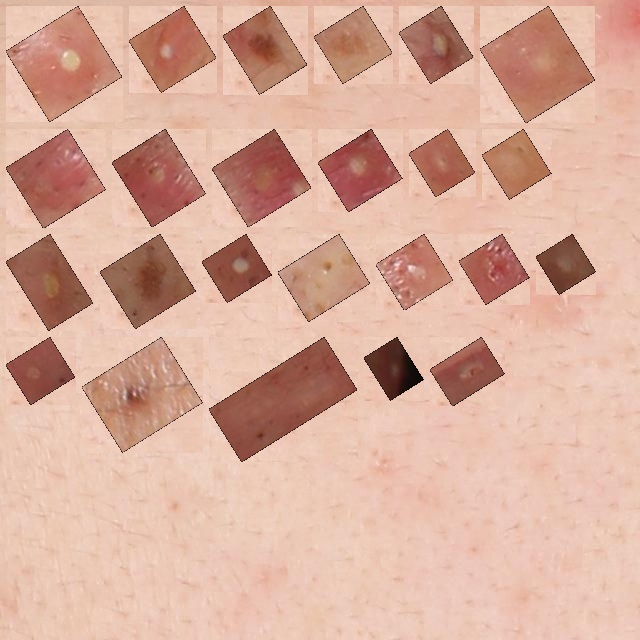hypertrophic_scar: (220, 348, 346, 451), (289, 245, 359, 310), (493, 140, 540, 188)
melasma: (325, 17, 381, 72)
nevus: (93, 348, 191, 441), (111, 245, 185, 317), (234, 17, 296, 83)
pustule: (491, 17, 584, 112), (17, 17, 111, 110), (17, 140, 95, 217), (223, 140, 300, 216), (123, 140, 195, 216), (17, 245, 82, 319), (140, 17, 205, 81), (329, 140, 391, 201), (387, 245, 442, 299), (410, 17, 462, 72), (441, 348, 493, 395), (470, 245, 518, 293), (213, 245, 261, 291), (17, 348, 64, 393), (420, 140, 464, 186), (375, 348, 413, 389), (547, 245, 585, 283)
